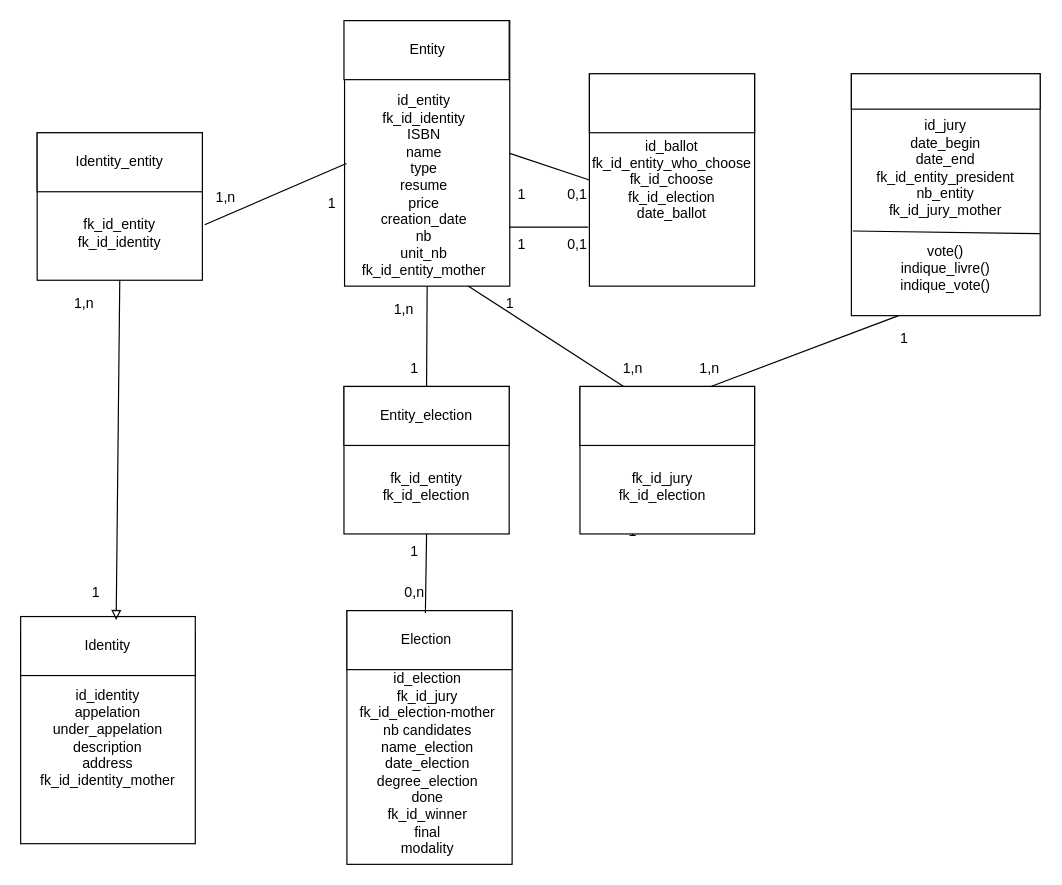
The diagram is 1062 pixels wide and 885 high, and some of its shapes have lost their labels. Here are the shapes that lost their labels. From the top down, the centre of each, then its label:
the point at 671,103: Ballot
the point at 945,91: Jury
the point at 667,415: Entity_jury
